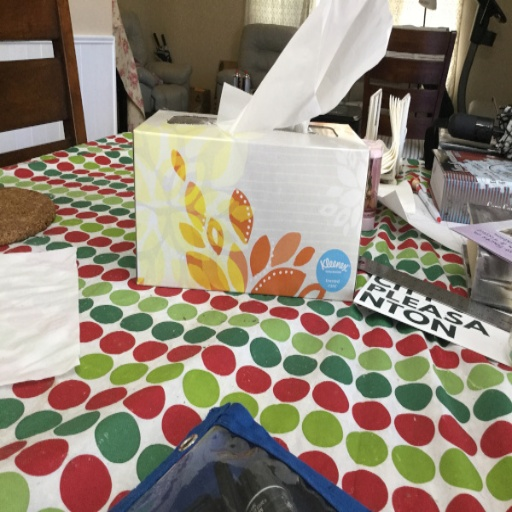box: (130, 3, 378, 293)
